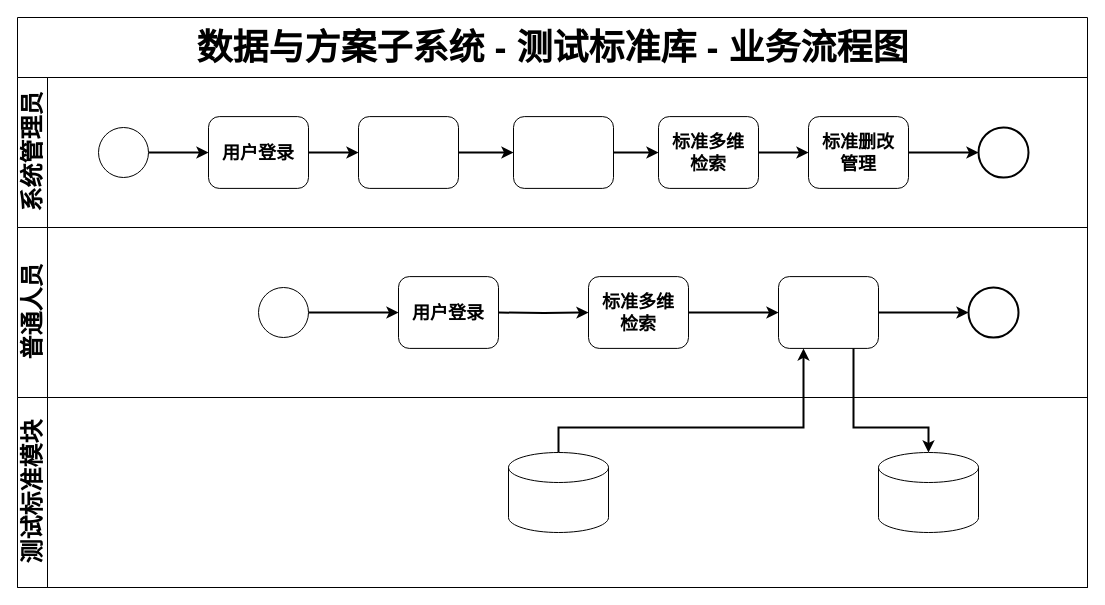
Image size: 1105x605. Some labels were removed from this diagram. The centre of each missing label's shape, as x and y in pixels:
"标准 元信息 编辑" belongs at pixel 563 152.
"标准 选择" belongs at pixel 828 312.
"标准创建" belongs at pixel 408 152.
"测试标准库" belongs at pixel 558 492.
"用户 标准 库" belongs at pixel 928 492.
